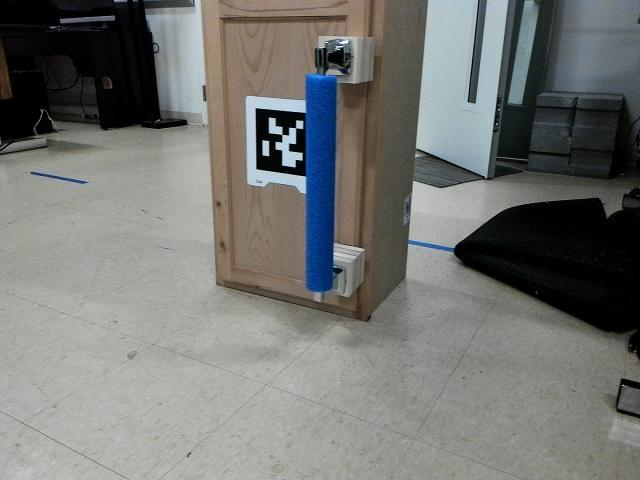noodle_handle: (292, 61, 346, 295)
